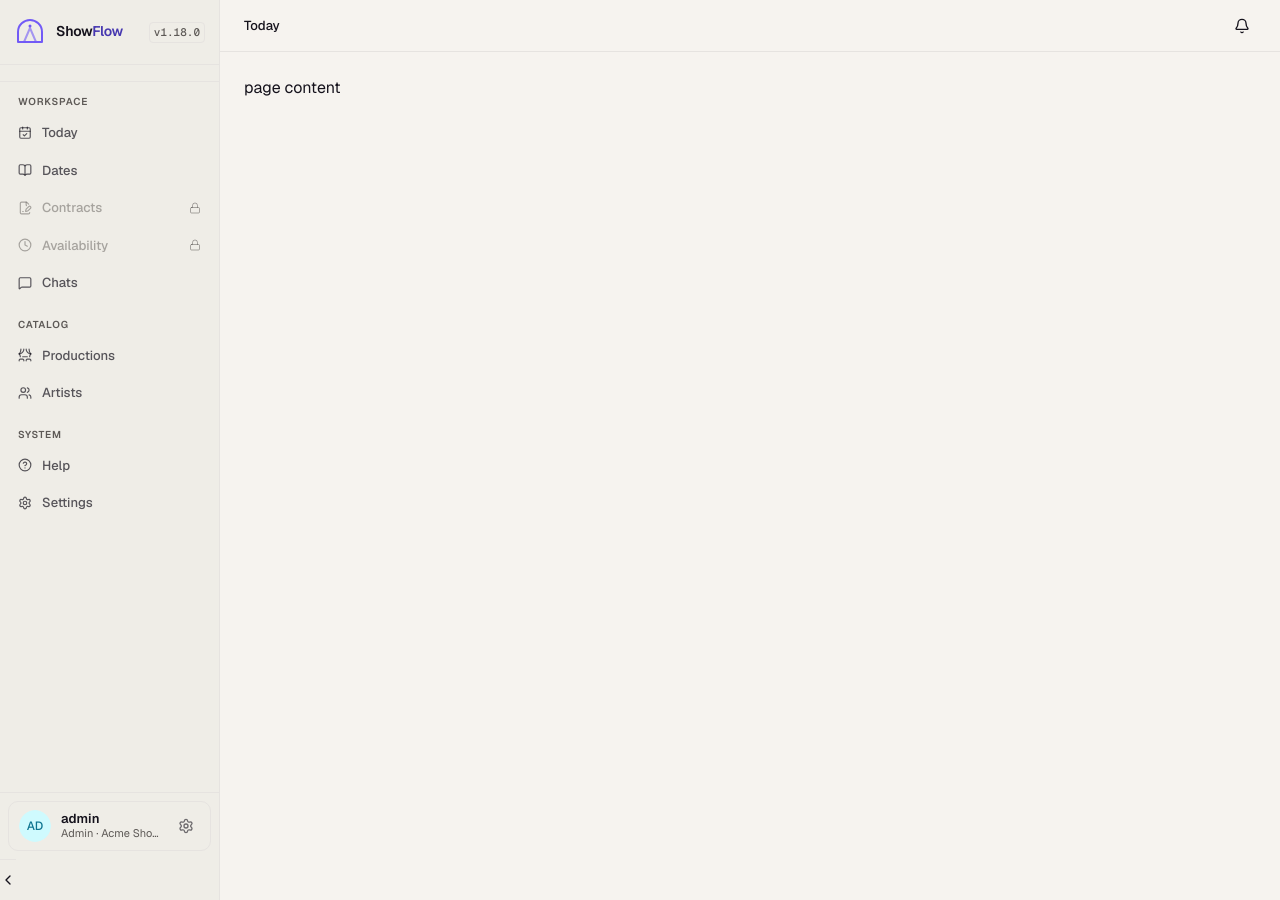
AppLayout language picker gating (language_packages entitlement) › shows the language picker when language_packages is on
Click the button named "Account menu" at (186, 826), box [172,812,200,840]
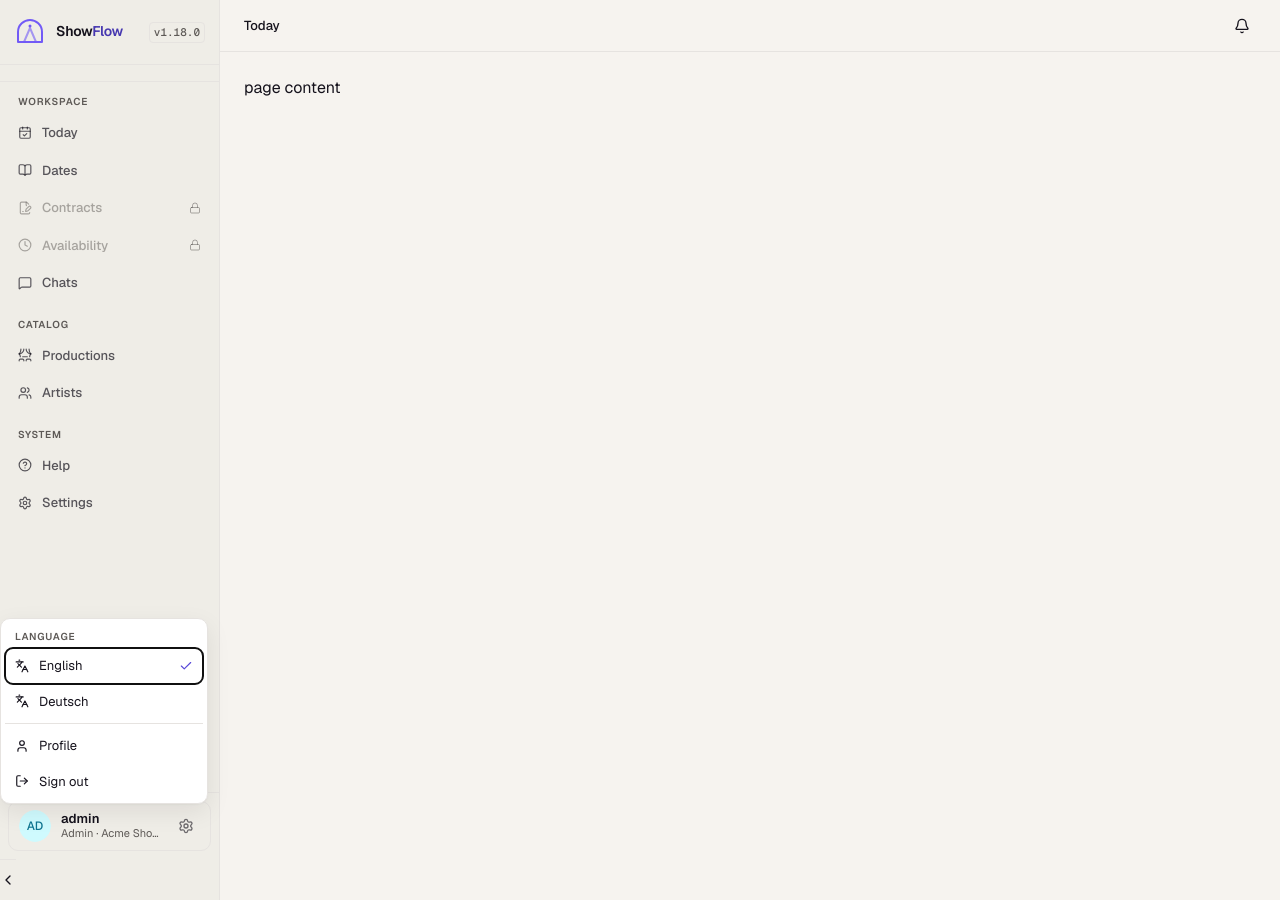
Expected: the text "Deutsch" is shown, [39,692,88,710]
